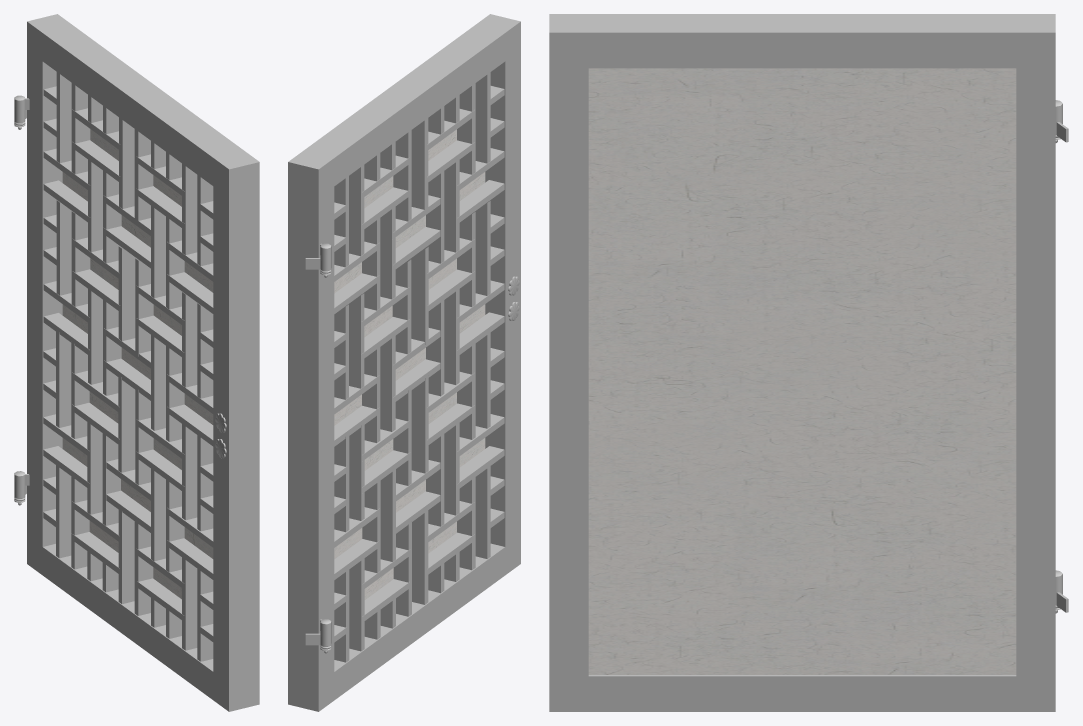
File: SM_Window02K.fbx
3 renders of one model, left to right at view 1: azimuth 30°, elevation 25°; view 2: azimuth 150°, elevation 25°; view 3: azimuth 270°, elevation 25°, orthographic. The views are drawn at different scales.
Parts seen in each view (by area): view 1: SM_Window02K; view 2: SM_Window02K; view 3: SM_Window02K.
Part boxes in pixels (<box>): SM_Window02K: <box>14,14,259,711</box>; SM_Window02K: <box>288,14,520,711</box>; SM_Window02K: <box>549,14,1068,711</box>.
Size of the model in its own units: 7.49 by 62.84 by 90.71.
